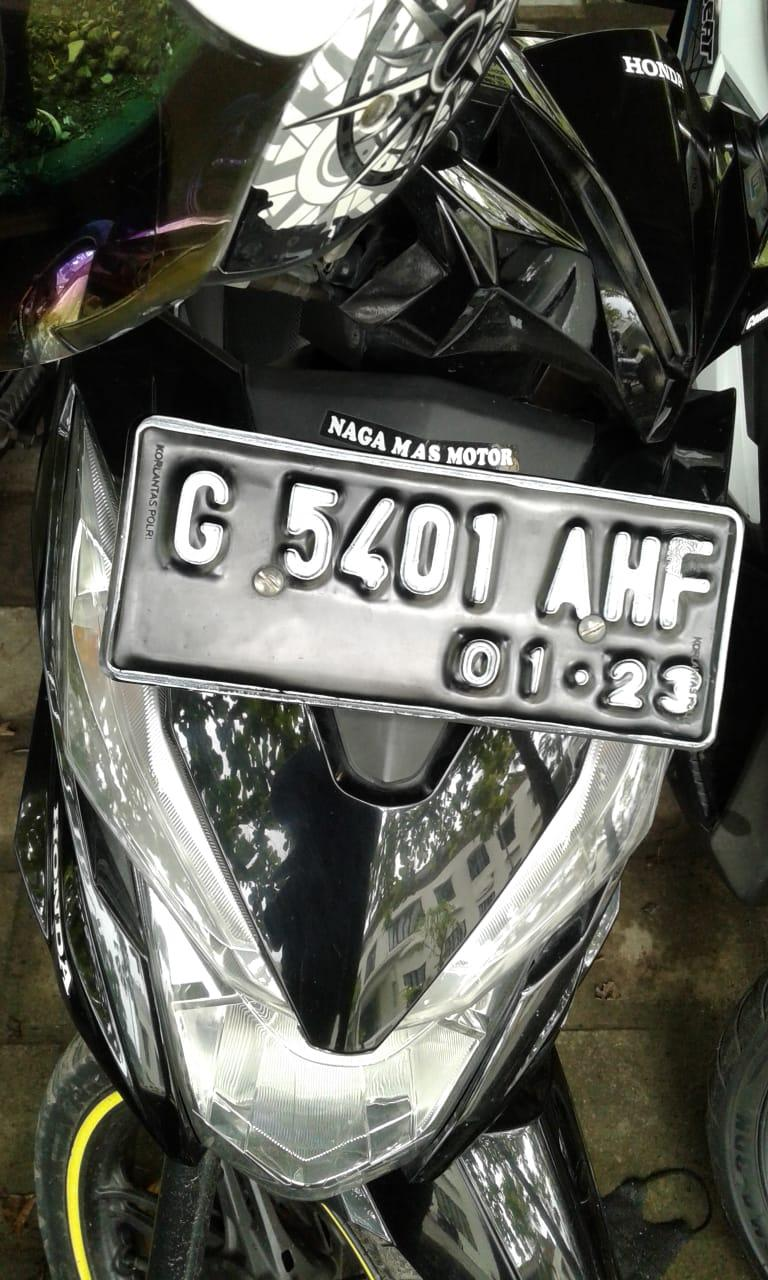plat: (105, 418, 742, 750)
